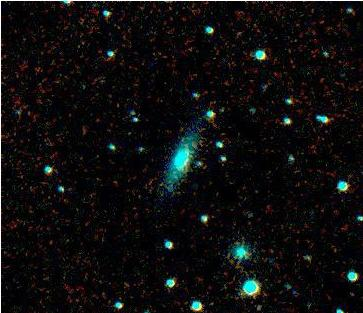star: (340, 281, 363, 311)
